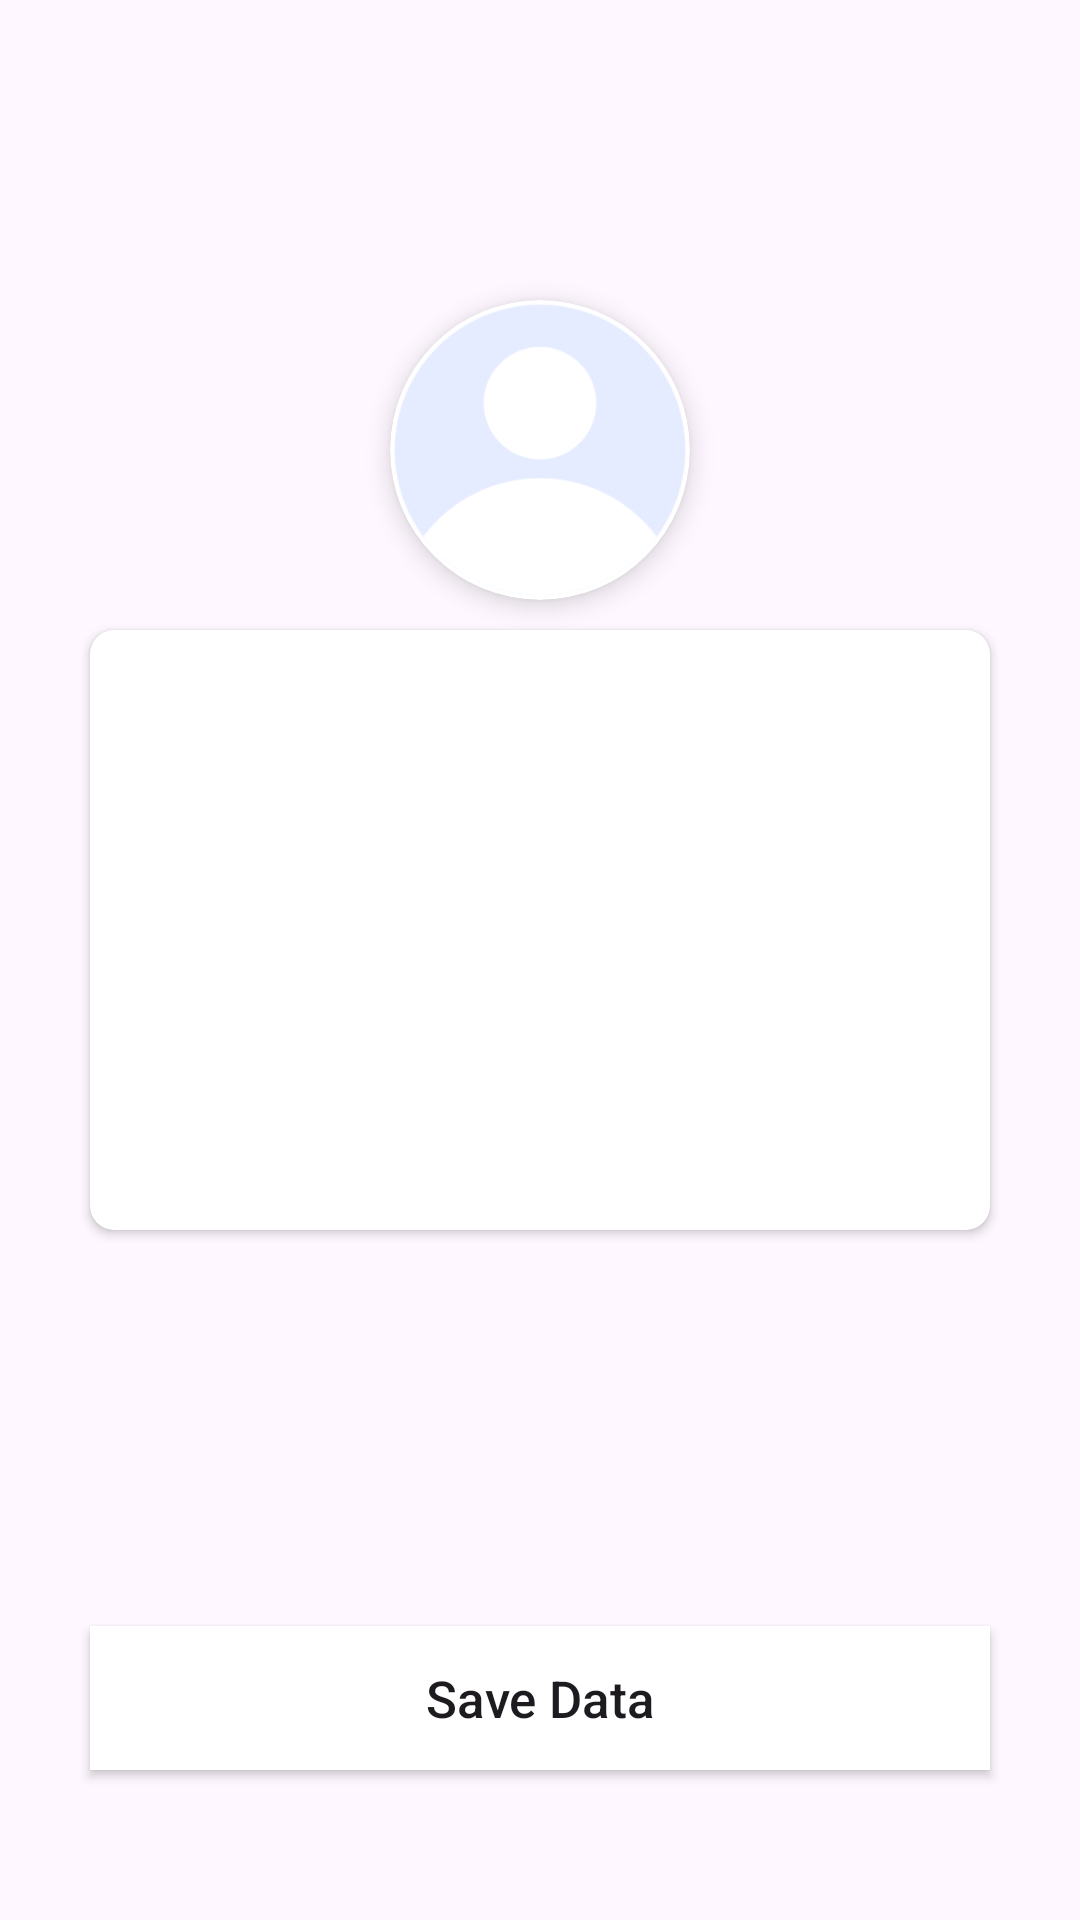

Named icons in this screenshot (1080x1920) and their bounding boxes, (x1, y1, x2, y2):
user: (390, 300, 690, 600)
